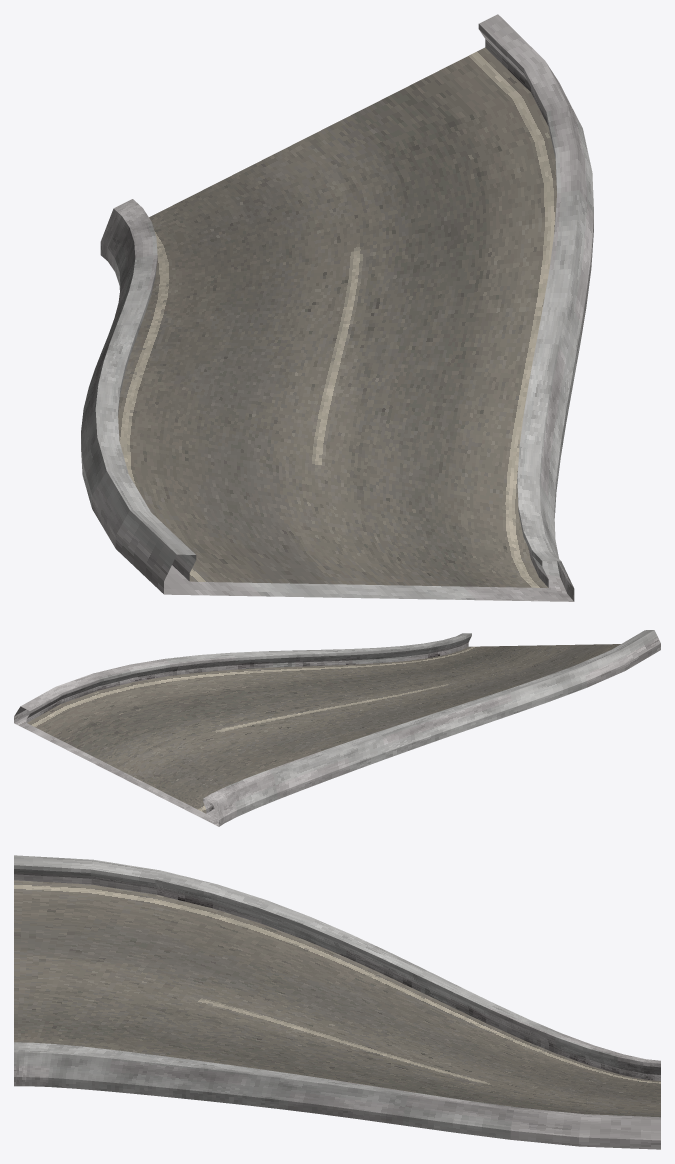
The model's file is chicane-right1x2.glb.
The picture shows the model from 3 angles, top to bottom: view 1: azimuth 30°, elevation 25°; view 2: azimuth 150°, elevation 25°; view 3: azimuth 270°, elevation 25°; orthographic projection. The views are drawn at different scales.
Visible parts, largest first — view 1: road-Chicane-HalfBankedRight-HalfBankedLeft-Even-Right1-Size; view 2: road-Chicane-HalfBankedRight-HalfBankedLeft-Even-Right1-Size; view 3: road-Chicane-HalfBankedRight-HalfBankedLeft-Even-Right1-Size.
Part boxes in pixels (x1,y1,x2,y2): road-Chicane-HalfBankedRight-HalfBankedLeft-Even-Right1-Size: (81, 14, 593, 601); road-Chicane-HalfBankedRight-HalfBankedLeft-Even-Right1-Size: (14, 630, 660, 826); road-Chicane-HalfBankedRight-HalfBankedLeft-Even-Right1-Size: (14, 855, 660, 1149).
Bounding box in the file's own units: 2 × 0.3359 × 2.
2 materials, 2 textured.
